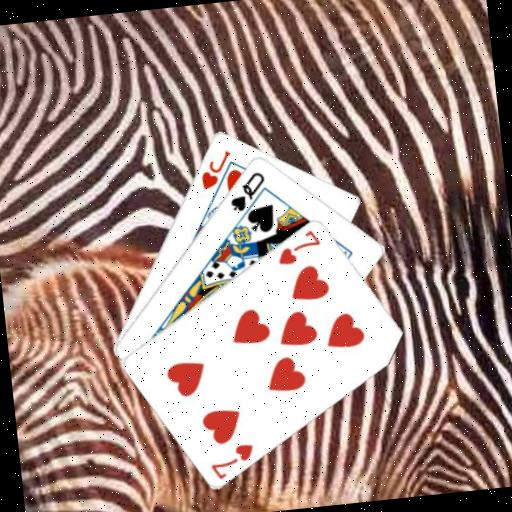7H: (272, 225, 325, 267), (205, 440, 258, 482)
JH: (195, 147, 236, 192)
QS: (225, 167, 270, 214)
